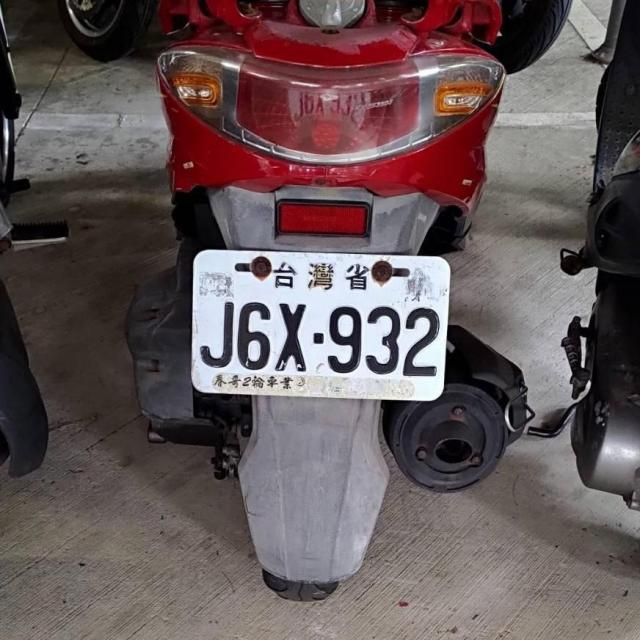W: (188, 245, 452, 402)
